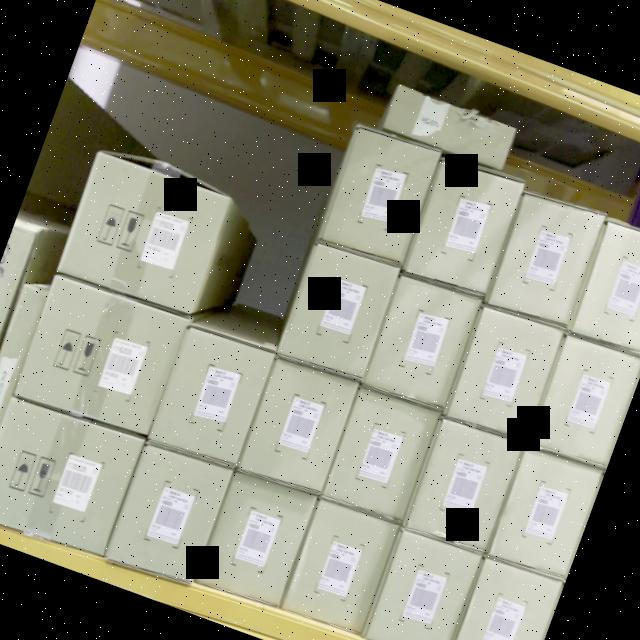box: (56, 155, 230, 316), (16, 277, 185, 437), (0, 399, 140, 551), (150, 328, 274, 468), (108, 446, 229, 584), (284, 497, 399, 633), (199, 474, 316, 606), (365, 274, 481, 407), (240, 361, 356, 493), (406, 164, 520, 294), (282, 247, 396, 376), (322, 134, 436, 262), (409, 419, 521, 549), (327, 390, 439, 518), (450, 310, 562, 438), (530, 340, 640, 468), (492, 198, 602, 324), (491, 452, 598, 576), (368, 529, 480, 640), (382, 84, 516, 169), (572, 220, 640, 355), (449, 564, 558, 640)
